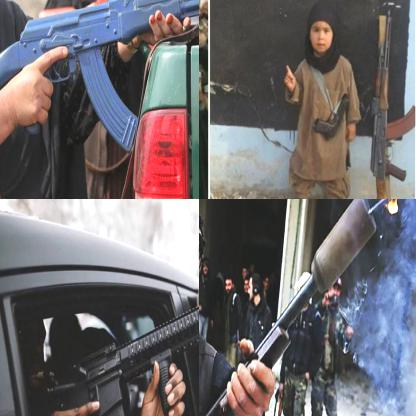pistol: (313, 94, 352, 138)
rifle: (199, 199, 384, 415), (0, 0, 198, 153), (46, 267, 198, 415), (369, 0, 415, 198)
